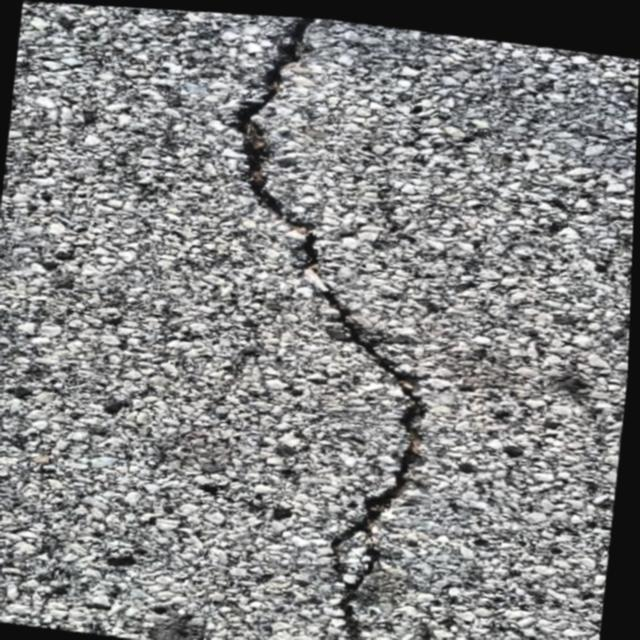cracks: (141, 12, 517, 640)
